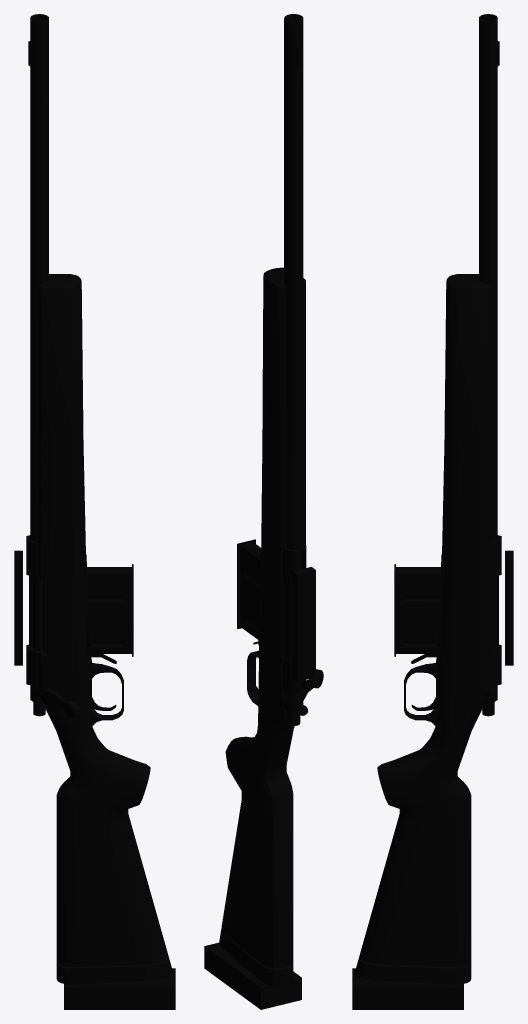
The model's file is M24__Mount_ScopeBase__RecoilPad_Rubber.fbx.
The picture shows the model from 3 angles, left to right: view 1: azimuth 90°, elevation 25°; view 2: azimuth 210°, elevation 25°; view 3: azimuth 270°, elevation 25°; orthographic projection.
Visible parts, largest first — view 1: asset_M24.001; view 2: asset_M24.001; view 3: asset_M24.001.
Boxes of the visible parts, box(x1,y1,x2,y2) form: asset_M24.001: box(14, 14, 175, 1009); asset_M24.001: box(204, 14, 323, 1009); asset_M24.001: box(352, 14, 513, 1009).
Size of the model in its own units: 0.048 by 0.669 by 0.0996.
